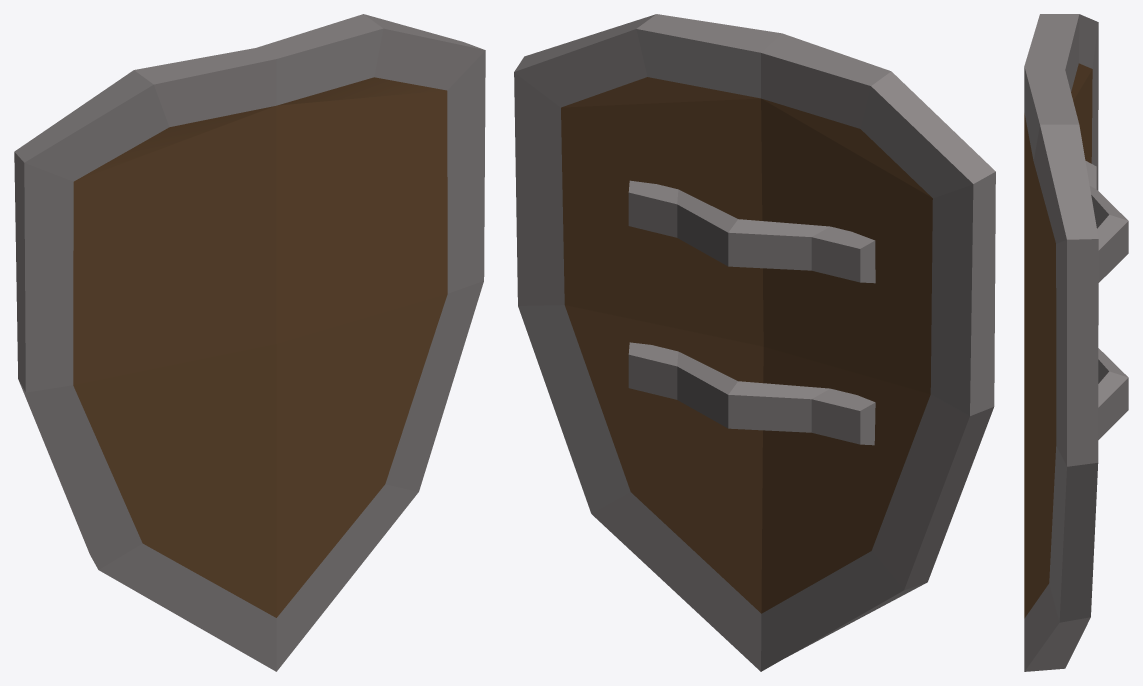
The model's file is shield-knight-wood.fbx.
3 renders of one model, left to right at view 1: azimuth 30°, elevation 25°; view 2: azimuth 150°, elevation 25°; view 3: azimuth 270°, elevation 25°, orthographic. The views are drawn at different scales.
Visible parts, largest first — view 1: shield-knight-wood; view 2: shield-knight-wood; view 3: shield-knight-wood.
Part boxes in pixels (x1,y1,x2,y2): shield-knight-wood: (14, 14, 485, 671); shield-knight-wood: (514, 14, 995, 671); shield-knight-wood: (1024, 14, 1128, 671).
Bounding box in the file's own units: 0.4861 × 0.6171 × 0.0962.
